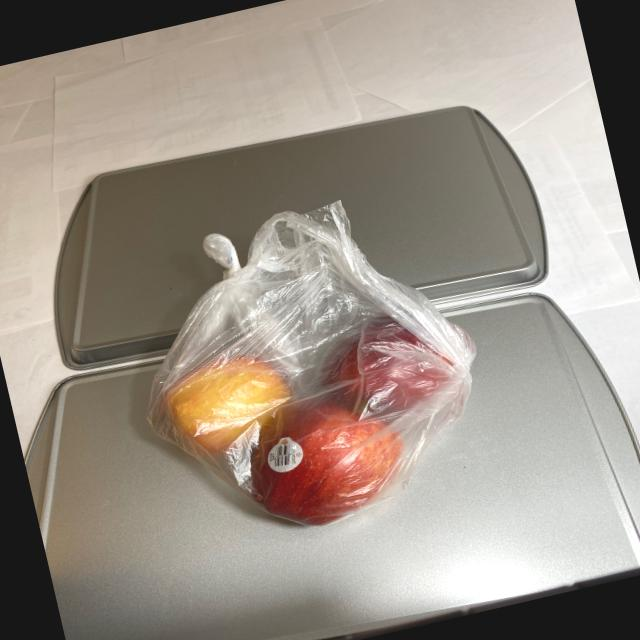apple: (142, 293, 504, 556)
